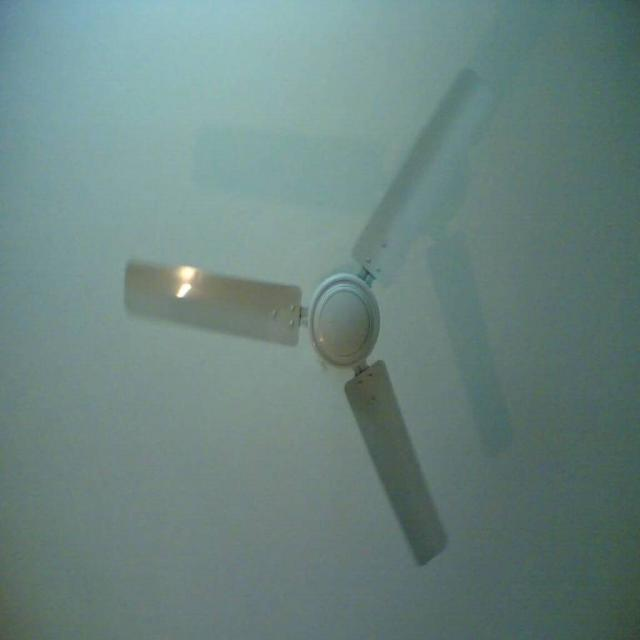Bulb: (121, 66, 494, 567)
